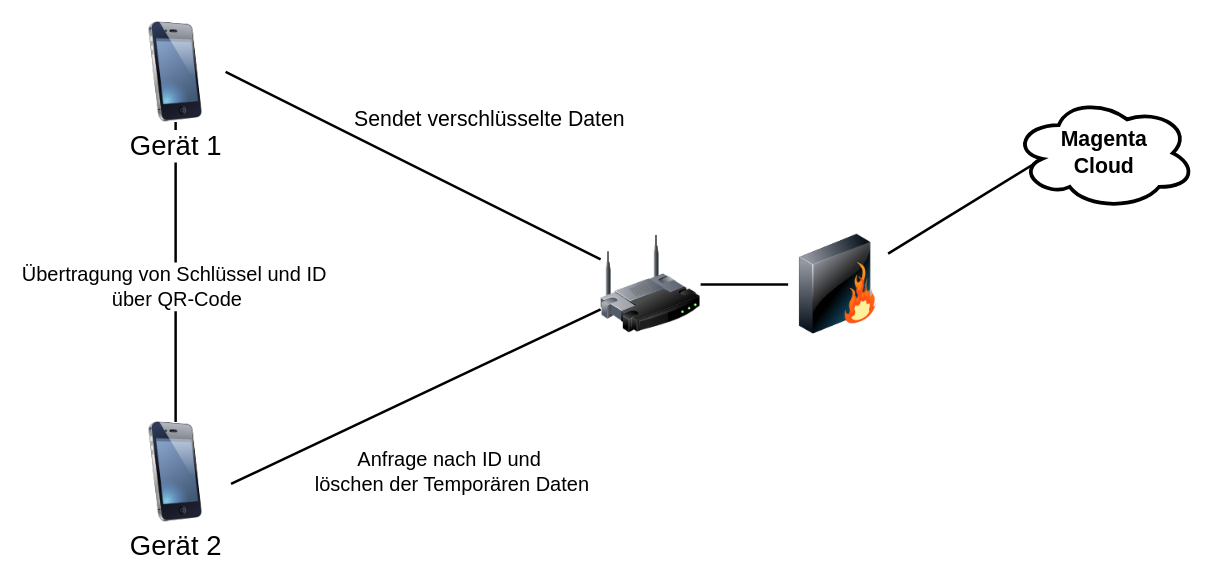
Image size: 1219x584. Some labels were removed from this diagram. Each missing label, with the centre of its shape:
Internet Verbindung: (650,284)
Token Authorisierung: (838,284)
